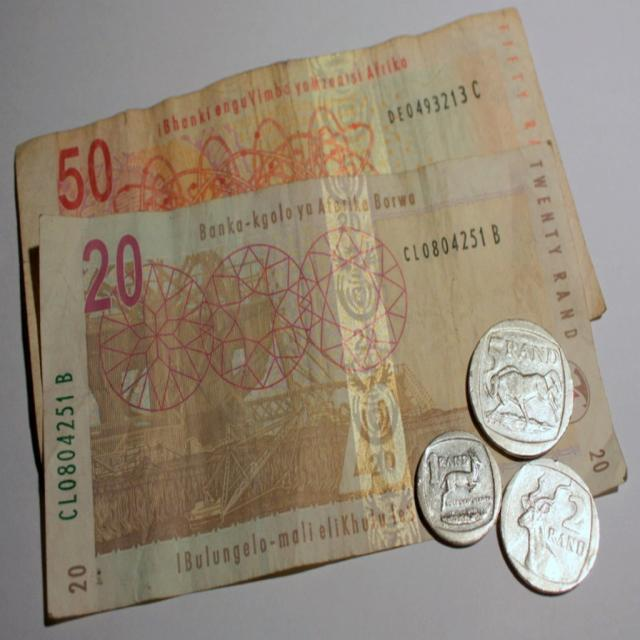Coin: (468, 317, 574, 458), (502, 457, 601, 597), (421, 436, 513, 550)
